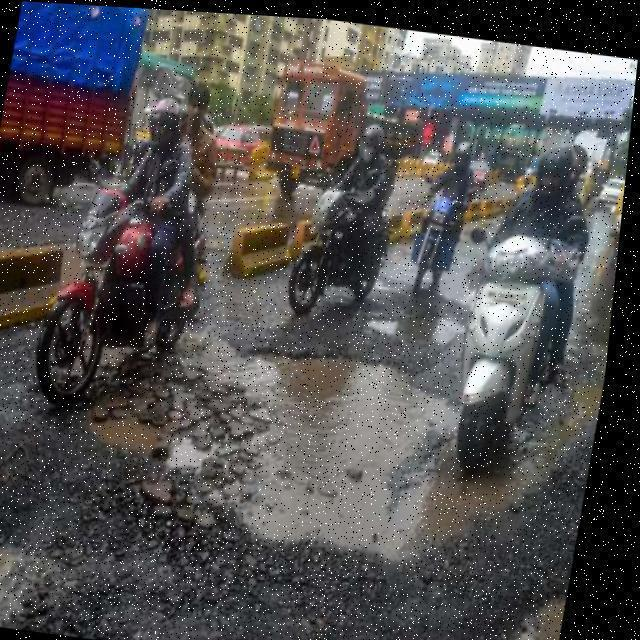Pothole: (187, 332, 603, 565), (0, 462, 189, 628), (80, 408, 222, 474), (364, 310, 468, 348)
